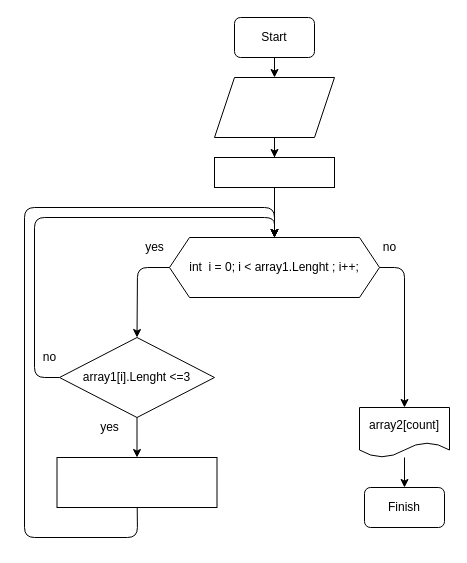
This 467x563 diagram has some shape labels left out. The shapes that lost their labels are listed below. From the top down, each one's centre as x and y in pixels, then its label:
the point at 274,107: string[] array1 string[] array2
the point at 274,172: int count = 0
the point at 136,482: array2[count] = array1[i] count ++
